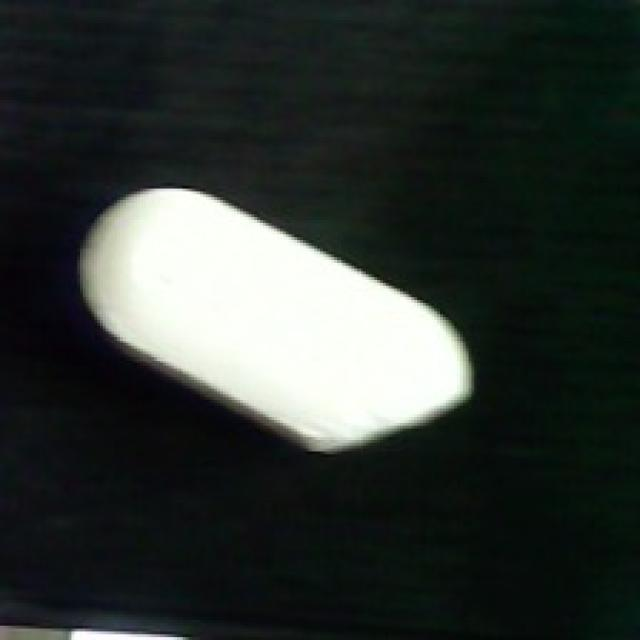defected: (69, 184, 474, 460)
